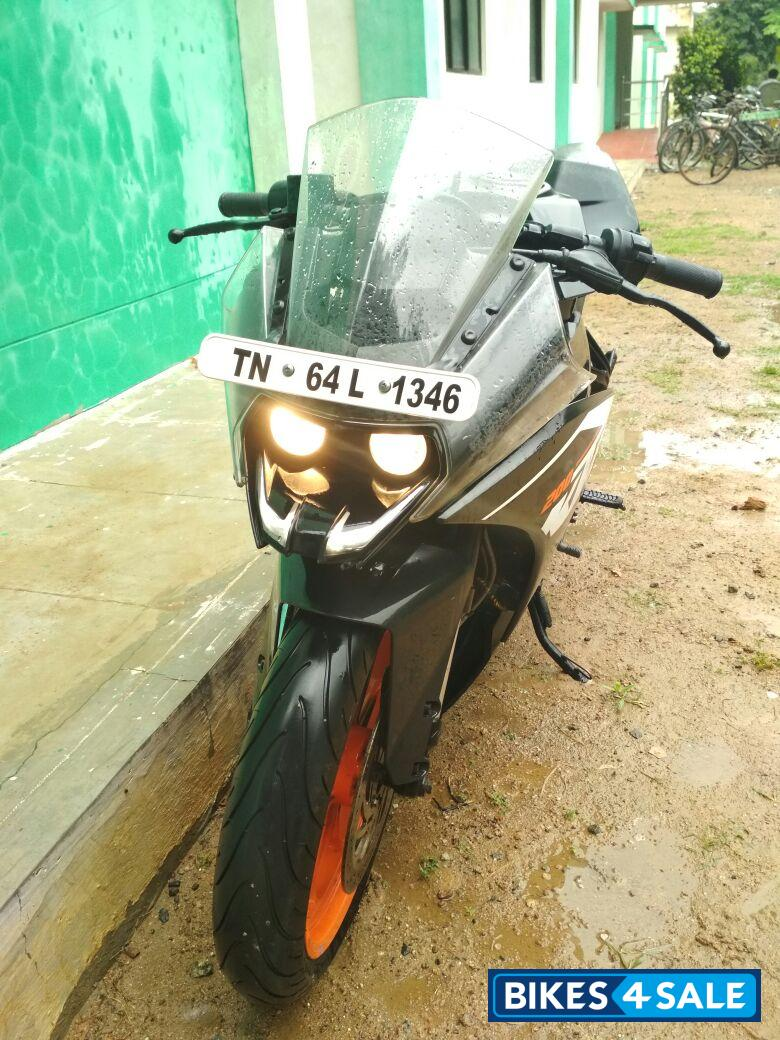numberplate: (194, 329, 480, 429)
